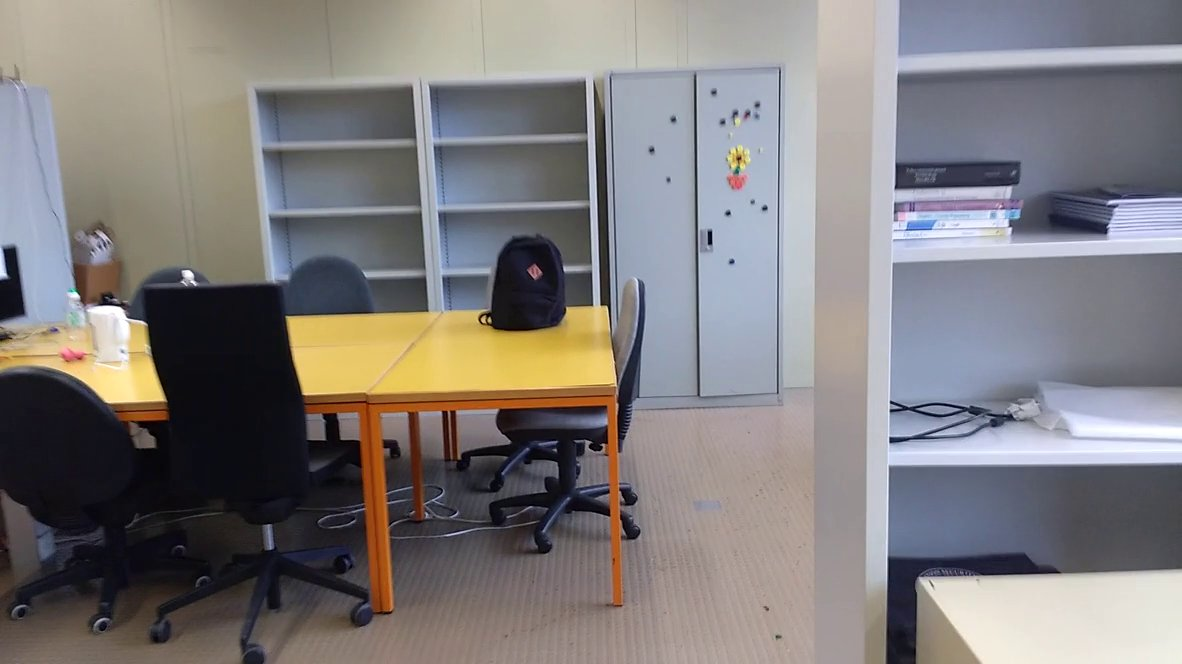bag: (475, 228, 574, 334)
chair: (136, 275, 384, 664), (1, 347, 204, 650), (493, 258, 671, 558), (279, 245, 393, 342)
